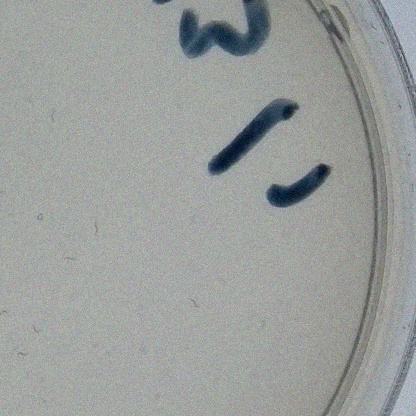worm: (44, 100, 67, 136), (32, 209, 56, 230), (28, 317, 46, 344), (0, 202, 21, 224), (89, 216, 105, 244), (57, 252, 84, 267), (185, 295, 207, 312), (14, 347, 36, 363), (0, 306, 14, 326), (255, 313, 271, 330), (0, 184, 15, 200)
